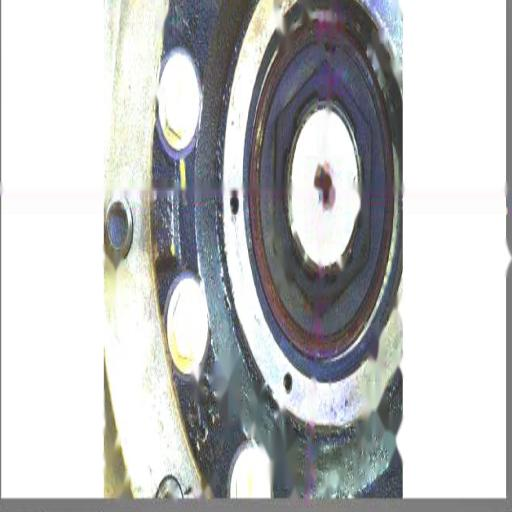center: (314, 168, 334, 201)
notch: (322, 35, 338, 66)
